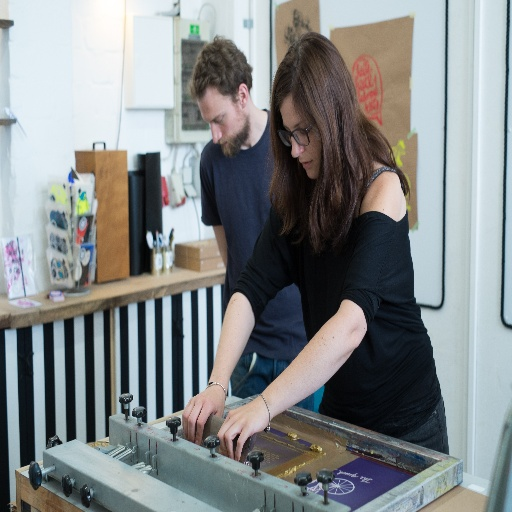hand: (215, 396, 268, 463), (180, 383, 225, 447)
